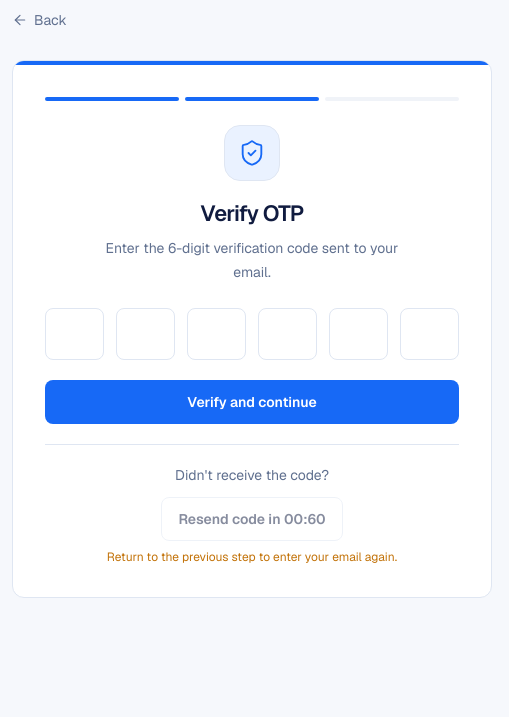
Test case: RecoveryCard › keeps a replaced reset code on the OTP step
Click the field named "OTP digit 1": (74,334) [45,308,104,360]
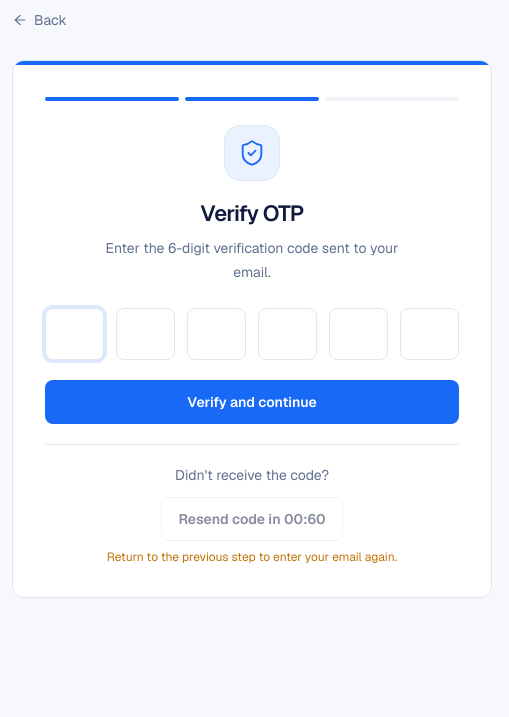
Type keys "123456"
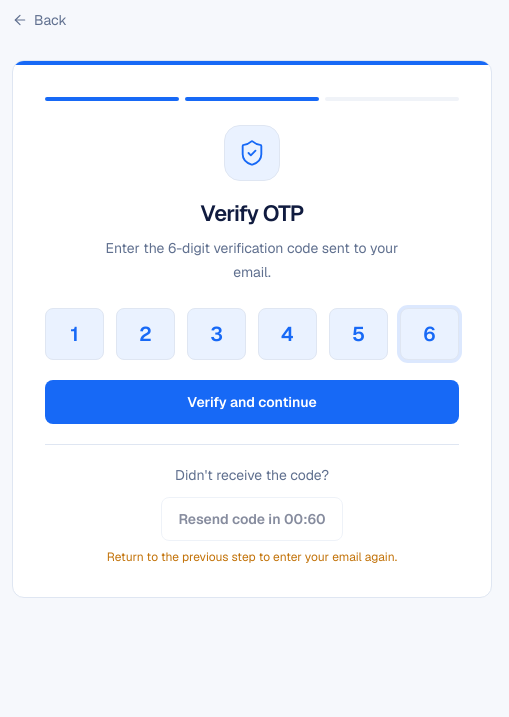
Click the button "Verify and continue": (252,402) [45,380,459,424]
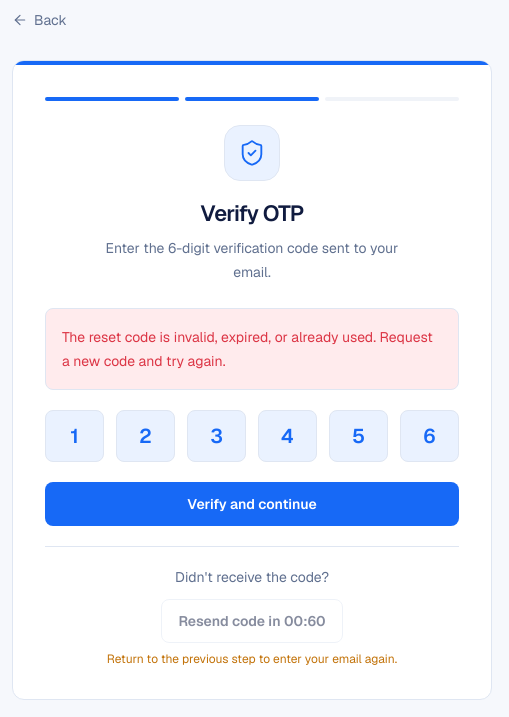
Expected: the text "invalid, expired, or already used" is shown, [62,328,433,370]
